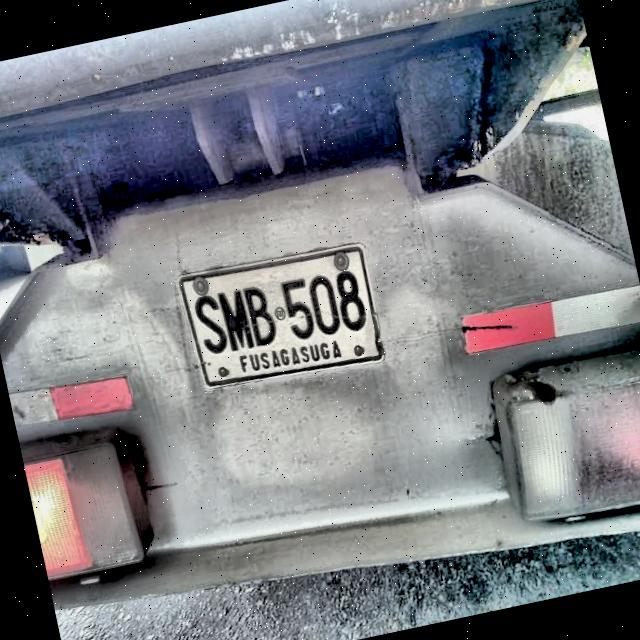0: (306, 274, 344, 339)
5: (278, 276, 317, 343)
8: (332, 266, 369, 334)
B: (241, 283, 279, 349)
M: (216, 286, 256, 355)
S: (190, 291, 230, 358)
